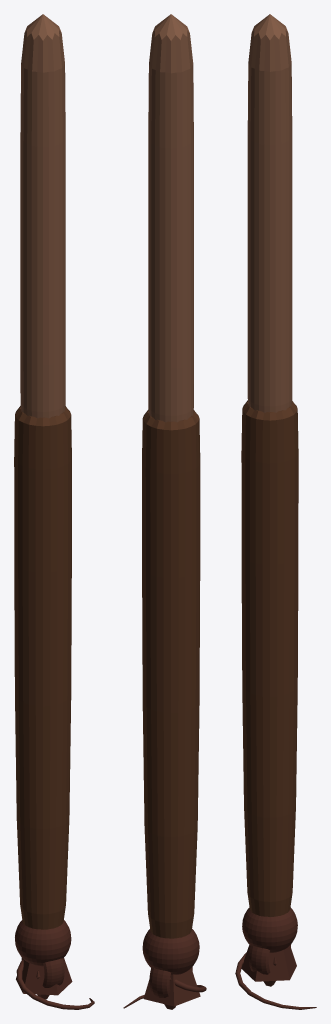
The model's file is Wand 14.glb.
3 renders of one model, left to right at view 1: azimuth 30°, elevation 25°; view 2: azimuth 150°, elevation 25°; view 3: azimuth 330°, elevation 25°, orthographic. The views are drawn at different scales.
Visible parts, largest first — view 1: GeneratedWand, Pommel_4, Pommel_9, Pommel_10, Pommel_2; view 2: GeneratedWand, Pommel_4, Pommel_9, Pommel_2, Pommel_10; view 3: GeneratedWand, Pommel_4, Pommel_9, Pommel_2, Pommel_10.
Boxes of the visible parts, bbox=[...] form: GeneratedWand: bbox=[14, 14, 71, 929]; Pommel_4: bbox=[15, 920, 71, 966]; Pommel_9: bbox=[16, 958, 72, 995]; Pommel_10: bbox=[16, 959, 94, 1009]; Pommel_2: bbox=[21, 957, 64, 987]; GeneratedWand: bbox=[142, 14, 200, 938]; Pommel_4: bbox=[142, 929, 199, 974]; Pommel_9: bbox=[143, 968, 200, 1006]; Pommel_2: bbox=[149, 967, 192, 997]; Pommel_10: bbox=[123, 978, 206, 1008]; GeneratedWand: bbox=[241, 14, 298, 916]; Pommel_4: bbox=[242, 907, 297, 952]; Pommel_9: bbox=[241, 945, 296, 981]; Pommel_2: bbox=[249, 944, 291, 974]; Pommel_10: bbox=[235, 952, 316, 1009].
Bounding box in the file's own units: 0.0402 × 0.5188 × 0.0338.
